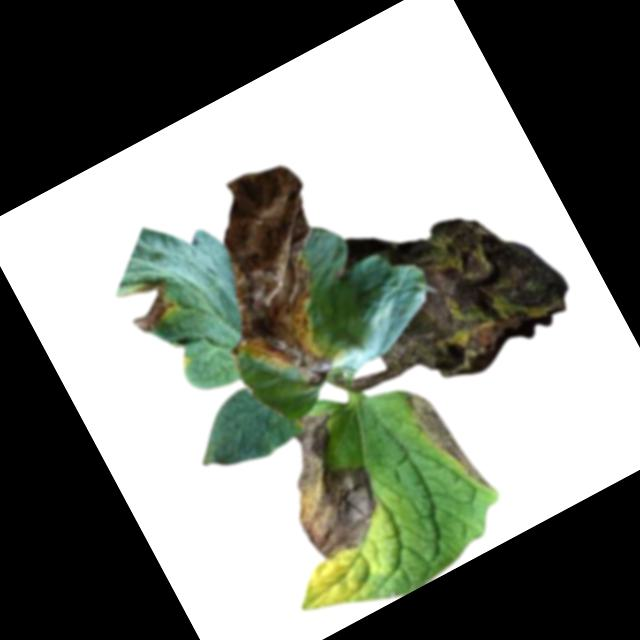Early_blight: (326, 156, 587, 413), (159, 151, 389, 414), (255, 403, 394, 565), (402, 377, 493, 504), (115, 270, 184, 338)
